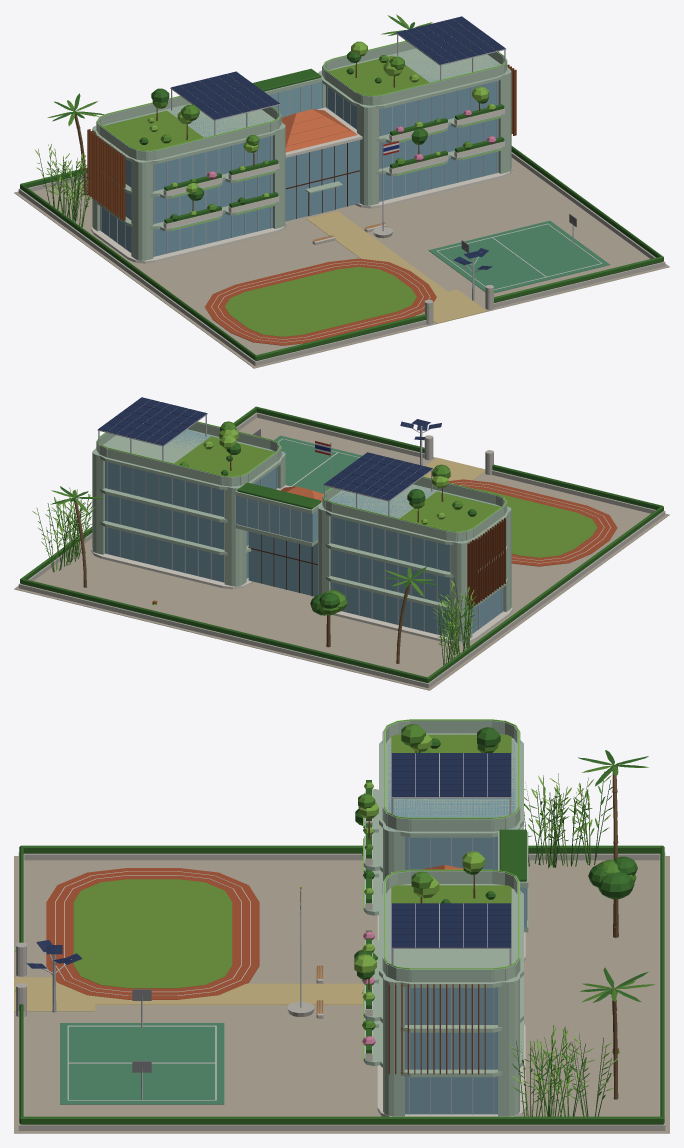
The model's file is school.glb.
3 renders of one model, top to bottom at view 1: azimuth 30°, elevation 25°; view 2: azimuth 150°, elevation 25°; view 3: azimuth 270°, elevation 25°, orthographic. The views are drawn at different scales.
Parts seen in each view (by area): view 1: body, windows; view 2: body, windows; view 3: body, windows.
Boxes of the visible parts, left/top/right/bottom form: body: left=14, top=14, right=669, bottom=368; windows: left=97, top=40, right=506, bottom=307; body: left=14, top=397, right=669, bottom=690; windows: left=97, top=421, right=506, bottom=532; body: left=14, top=720, right=669, bottom=1133; windows: left=15, top=719, right=519, bottom=1060.
Bounding box in the file's own units: 48.98 × 15.31 × 47.9.
